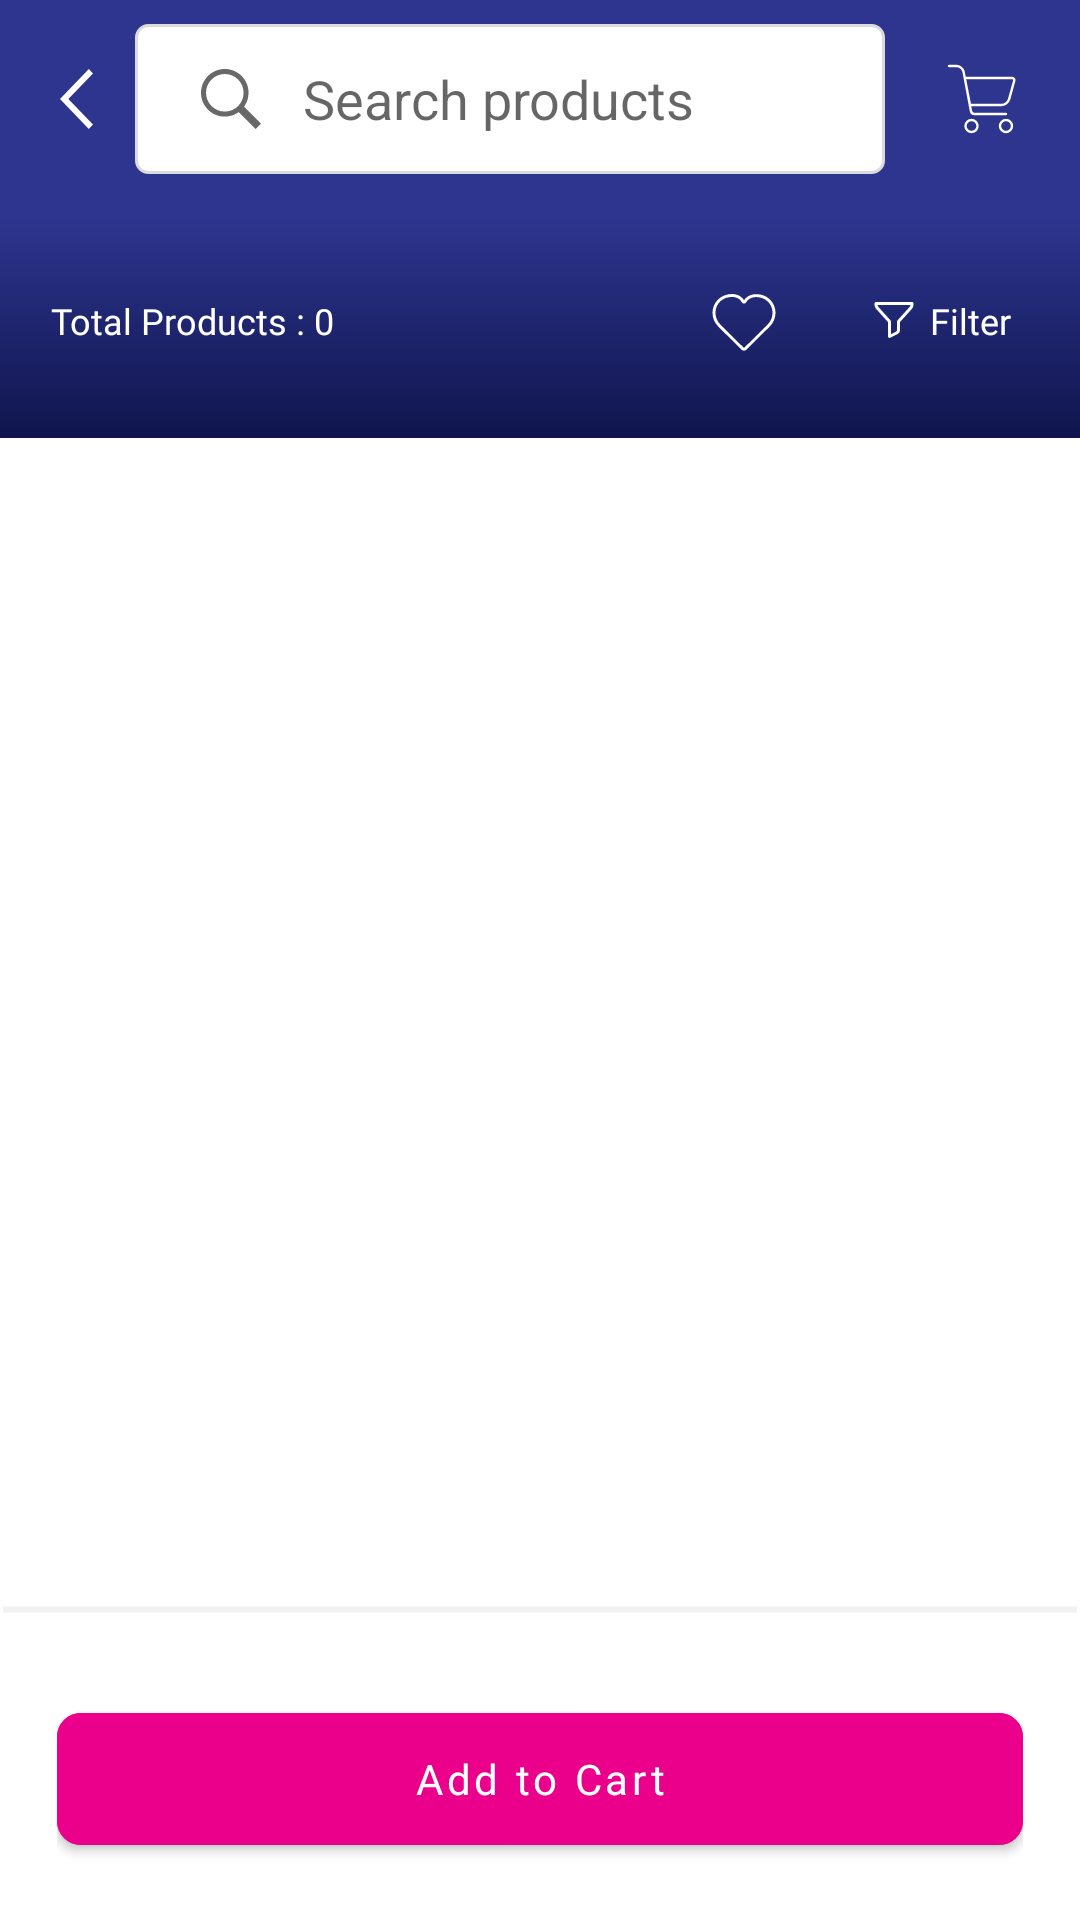

Icons on this 1080*1920 Android screen, each with its box as (x1, y1, x2, y2):
back: (60, 69, 93, 129)
cart: (948, 64, 1016, 134)
